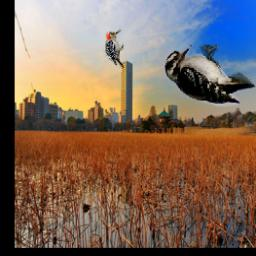Woodpecker: (159, 45, 256, 108), (104, 28, 125, 69)
